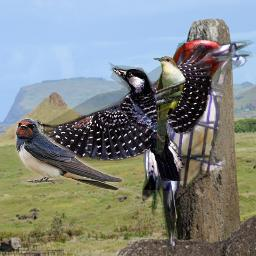Cuckoo: (153, 56, 186, 154)
Swallow: (14, 116, 156, 201)
Woodpecker: (25, 43, 213, 181), (142, 37, 255, 256)
